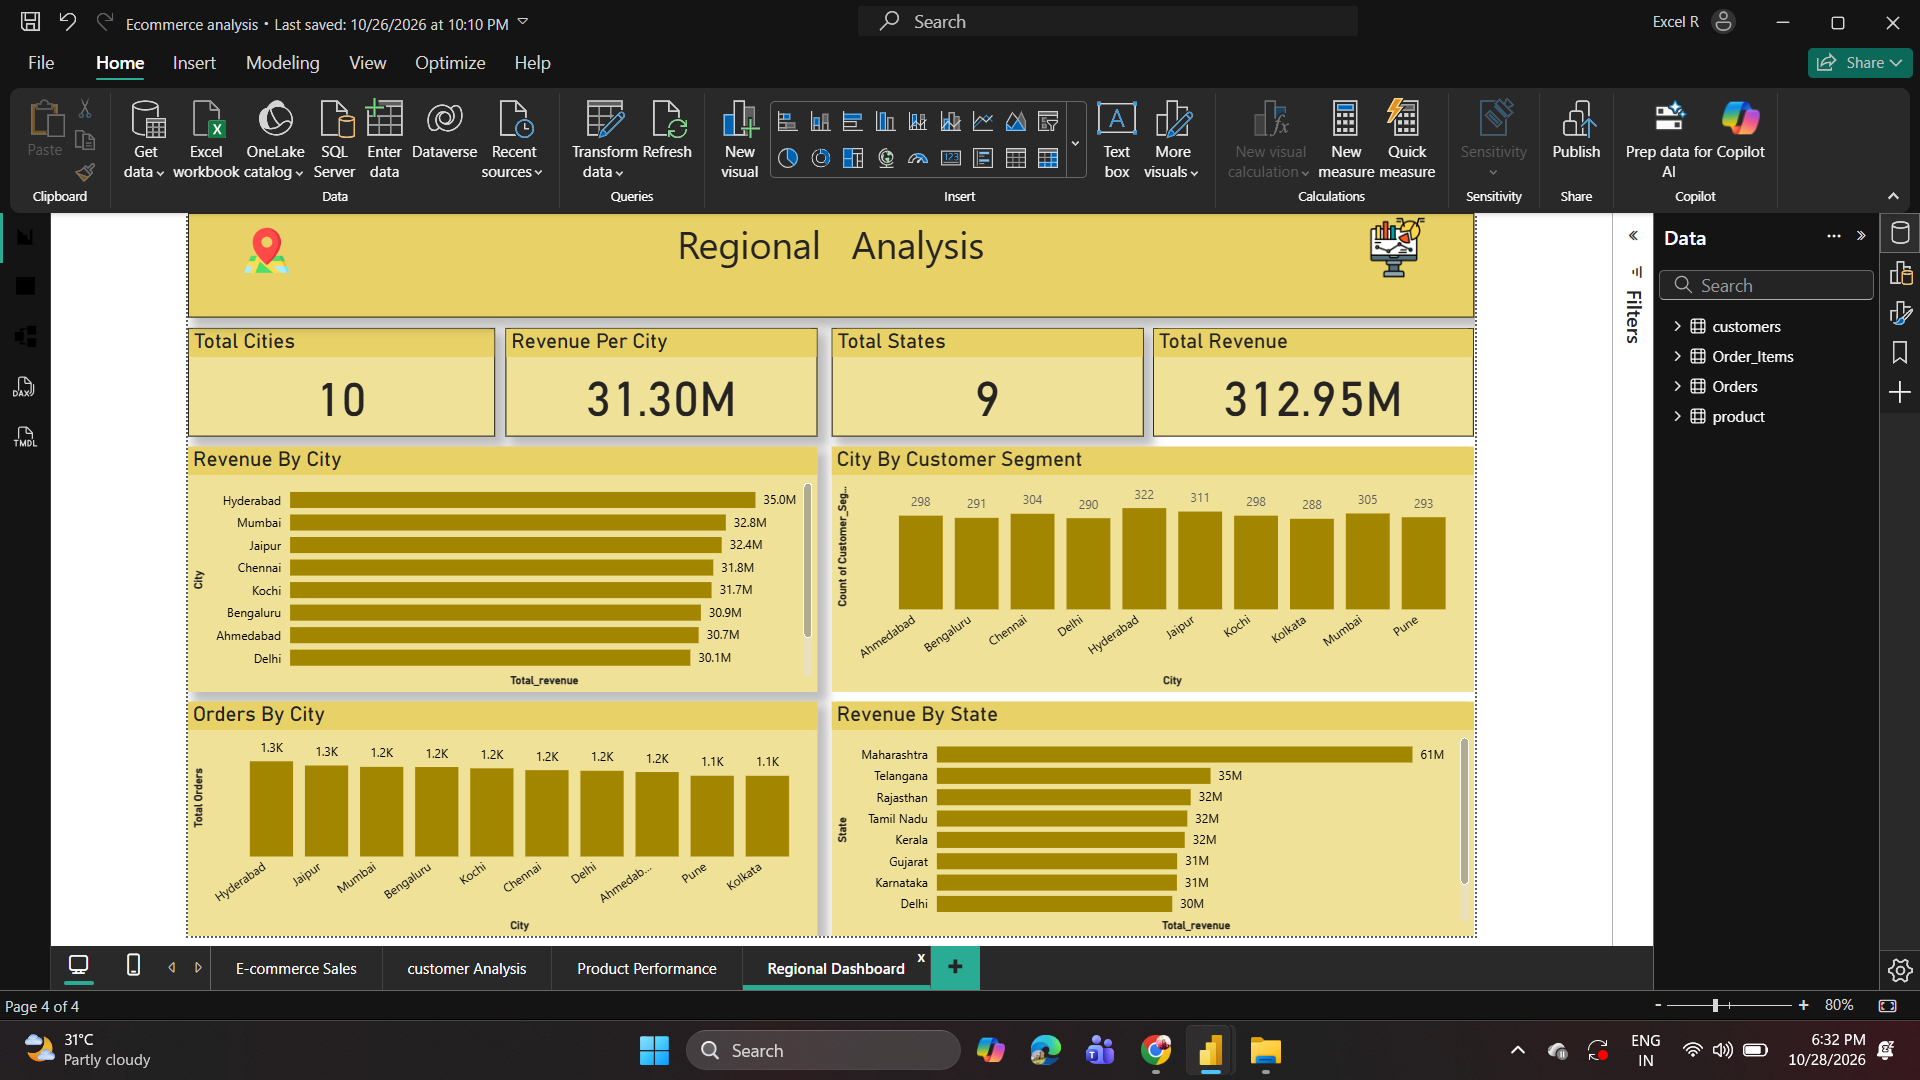

This screenshot's page, from the dashboard's own definition file:
{"tool":"powerbi","page":{"name":"Regional Dashboard","canvas":[1280,720],"ordinal":3},"visuals":[{"type":"card","title":"Total Cities","fields":{"Values":["Order_Items.Total Cities"]},"box":[0,114,305.9,108.2],"z":0},{"type":"textbox","box":[0,0,1279.7,103.9],"z":1000},{"type":"card","title":"Revenue Per City","fields":{"Values":["Order_Items.Revenue per City"]},"box":[316,114,310.2,108.2],"z":2000},{"type":"card","title":"Total States","fields":{"Values":["Order_Items.Total States"]},"box":[640.6,114,310.2,108.2],"z":3000},{"type":"card","title":"Total Revenue","fields":{"Values":["Order_Items.Total_revenue"]},"box":[960.9,114,318.9,108.2],"z":4000},{"type":"clusteredBarChart","title":"Revenue By City","fields":{"Category":["customers.City"],"Y":["Order_Items.Total_revenue"]},"box":[0,232.3,626.2,243.8],"z":5000},{"type":"clusteredColumnChart","title":"Orders By City","fields":{"Category":["customers.City"],"Y":["Orders.Total Orders"]},"box":[0,486,626,234],"z":6000},{"type":"barChart","title":"Revenue By State","fields":{"Category":["customers.State"],"Y":["Order_Items.Total_revenue"]},"box":[640.6,486.2,639.1,233.7],"z":7000},{"type":"columnChart","title":"City By Customer Segment","fields":{"Category":["customers.City"],"Y":["CountNonNull(customers.Customer_Segment)"]},"box":[640.6,232.3,639.1,243.8],"z":8000},{"type":"image","box":[24.5,10.1,106.8,54.8],"z":9000},{"type":"image","box":[1147,0,114,69.3],"z":10000}]}

Visuals, with their boxes on the page's 1280x720 design canvas (x1, y1, x2, y2). These are canvas units, not pixel positions in the 1920x1080 screenshot, which may show the page scaled, cropped or inside an application window:
"Total Cities" card: [0,114,306,222]
textbox: [0,0,1280,104]
"Revenue Per City" card: [316,114,626,222]
"Total States" card: [641,114,951,222]
"Total Revenue" card: [961,114,1280,222]
"Revenue By City" clusteredBarChart: [0,232,626,476]
"Orders By City" clusteredColumnChart: [0,486,626,720]
"Revenue By State" barChart: [641,486,1280,720]
"City By Customer Segment" columnChart: [641,232,1280,476]
image: [24,10,131,65]
image: [1147,0,1261,69]
